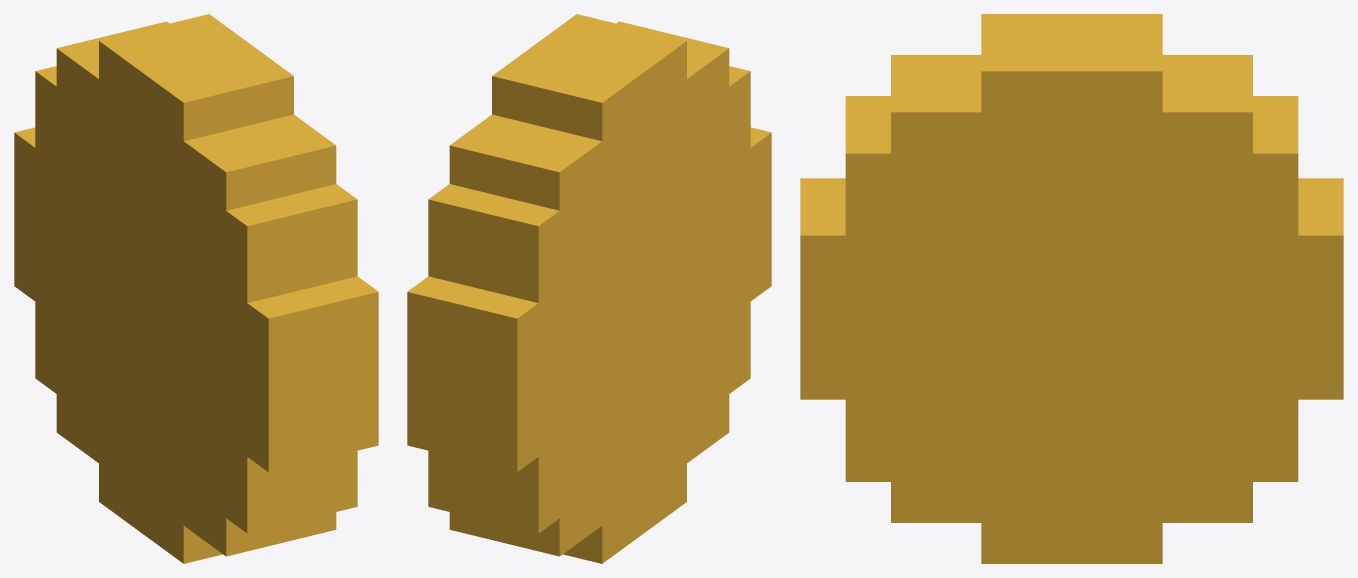
Rendered from Pacman01.obj.
The picture shows the model from 3 angles, left to right: view 1: azimuth 30°, elevation 25°; view 2: azimuth 150°, elevation 25°; view 3: azimuth 270°, elevation 25°; orthographic projection. The views are drawn at different scales.
Size of the model in its own units: 0.3 by 1.2 by 1.2.
